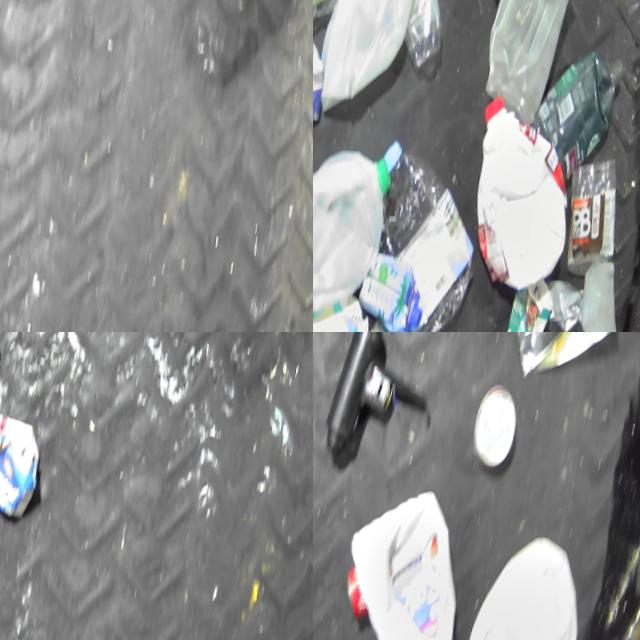can: (493, 332, 640, 400), (463, 388, 521, 483)
milk_jug: (454, 95, 585, 309), (322, 480, 478, 640), (441, 524, 592, 640), (470, 0, 590, 139), (313, 139, 398, 332), (313, 0, 430, 132), (558, 261, 637, 332)
plastic_bottle: (352, 140, 491, 332), (364, 0, 464, 84)
